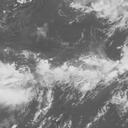cyclone: (35, 55, 102, 97)
